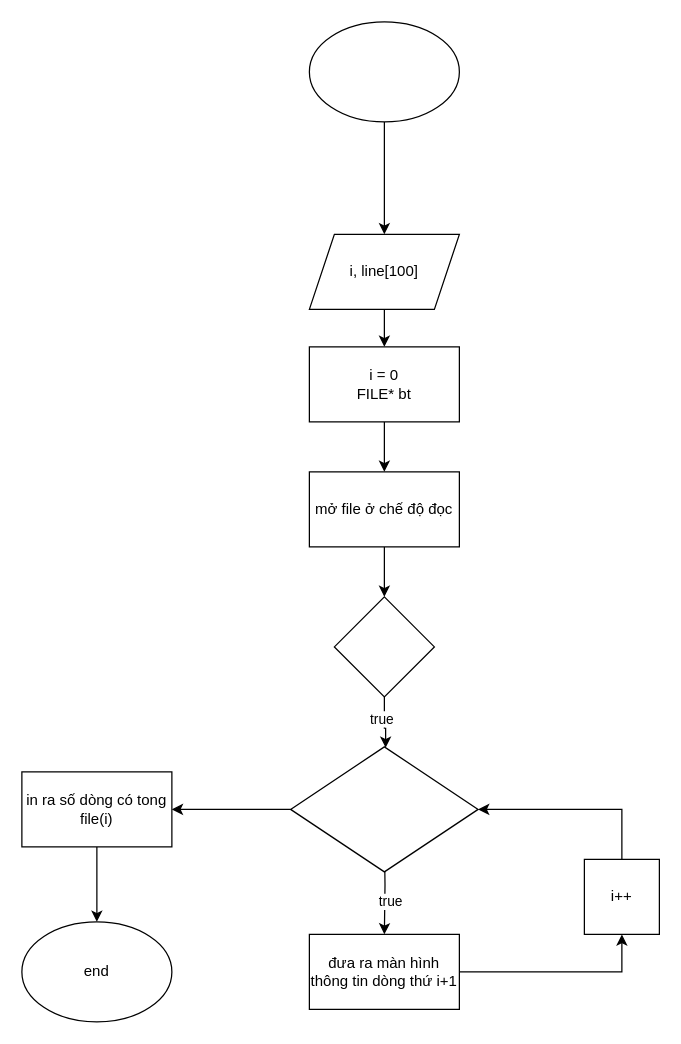
This 681x1044 diagram has some shape labels left out. Here are the shapes that lost their labels. From the top down, the centre of each, then its label:
point 383,71: start
point 383,646: bt != NULL
point 383,809: lặp lại đế khi không đọc đc dòng thứ i+!
